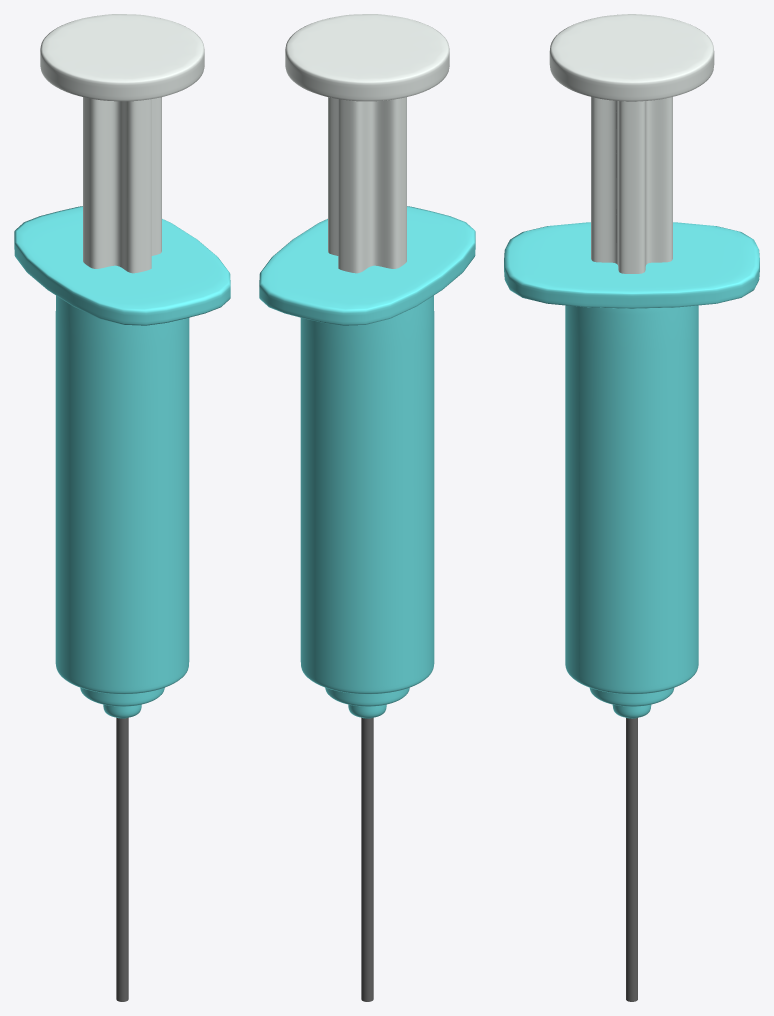
Rendered from Syringemodelandmaterial.fbx.
3 renders of one model, left to right at view 1: azimuth 30°, elevation 25°; view 2: azimuth 150°, elevation 25°; view 3: azimuth 270°, elevation 25°, orthographic.
Parts seen in each view (by area): view 1: Cylinder.003, Cylinder.001, Cylinder.002; view 2: Cylinder.003, Cylinder.001, Cylinder.002; view 3: Cylinder.003, Cylinder.001, Cylinder.002.
Part boxes in pixels (x1,y1,x2,y2): Cylinder.003: (14,206,230,718); Cylinder.001: (40,14,204,273); Cylinder.002: (116,717,128,1001); Cylinder.003: (259,206,475,718); Cylinder.001: (285,14,449,273); Cylinder.002: (361,717,373,1001); Cylinder.003: (504,222,759,718); Cylinder.001: (549,14,714,273); Cylinder.002: (626,718,637,1001).
Size of the model in its own units: 54.53 by 331 by 80.6.
